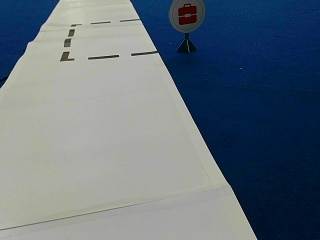company: (169, 0, 205, 32)
